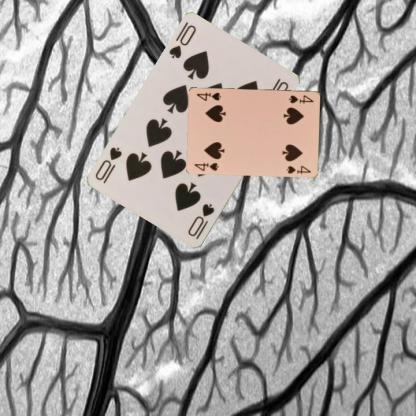10s: (185, 201, 216, 242), (166, 23, 198, 61)
4s: (286, 92, 315, 104), (193, 160, 220, 172)
